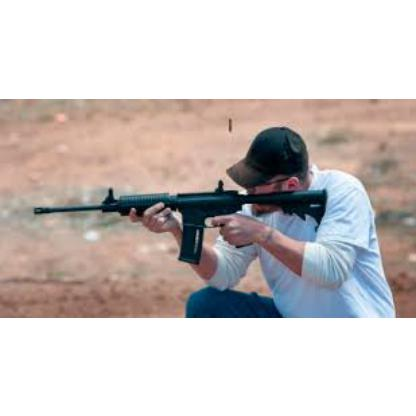gun: (32, 177, 334, 261)
